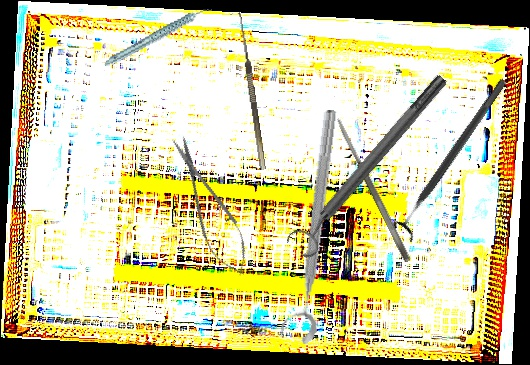Fixation Ring: (281, 67, 459, 262), (387, 72, 517, 243), (277, 107, 344, 345)
Handpiece: (97, 7, 220, 68)
Hook Surgical: (230, 11, 266, 172)
Micro Scissor: (159, 128, 260, 284)
Spatula Surgical: (333, 115, 413, 264)
